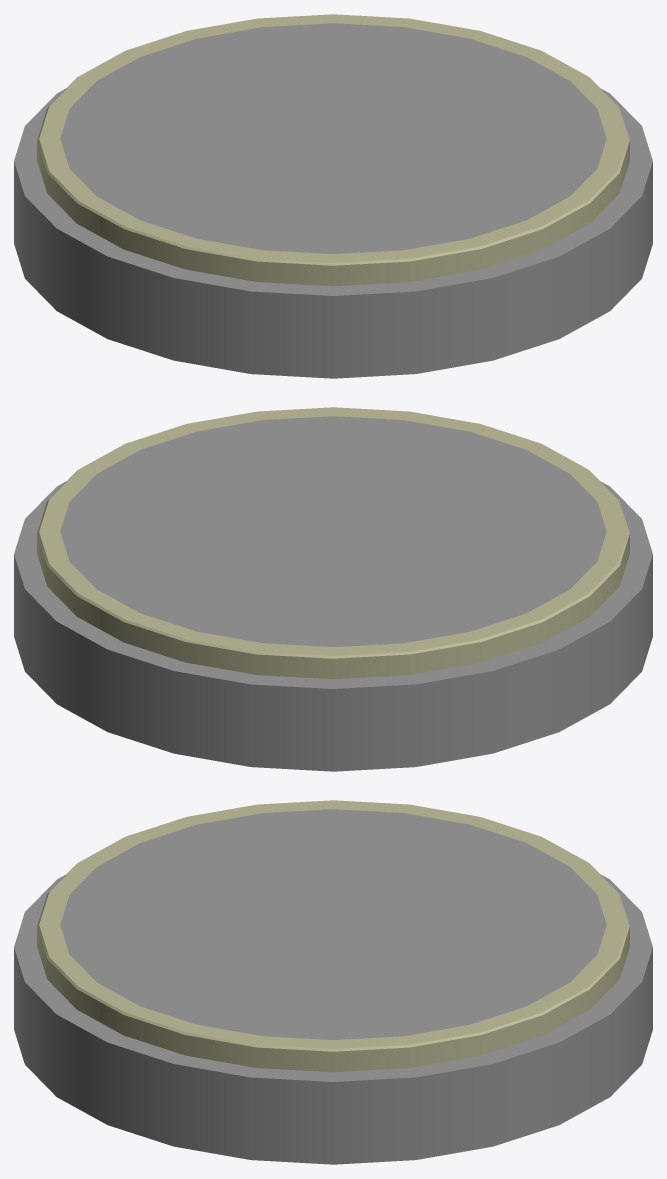
File: Stand3.FBX
3 renders of one model, top to bottom at view 1: azimuth 30°, elevation 25°; view 2: azimuth 150°, elevation 25°; view 3: azimuth 270°, elevation 25°, orthographic.
Visible parts, largest first — view 1: Stand3; view 2: Stand3; view 3: Stand3.
Part boxes in pixels (left/top/right/bottom): Stand3: left=14, top=14, right=652, bottom=378; Stand3: left=14, top=407, right=652, bottom=771; Stand3: left=14, top=800, right=652, bottom=1164.
Size of the model in its own units: 509 by 92.24 by 509.
